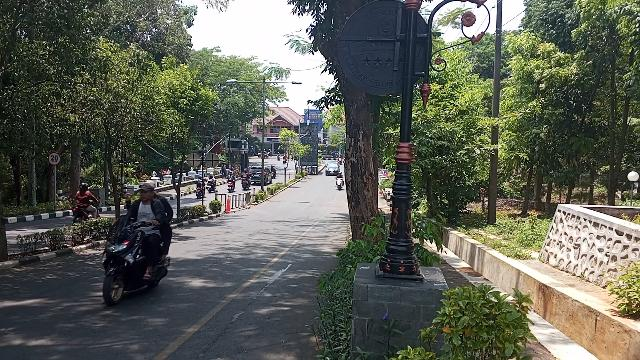helm: (80, 184, 90, 193)
motor: (103, 216, 174, 309), (72, 196, 103, 224)
non-helm: (138, 184, 156, 204)
